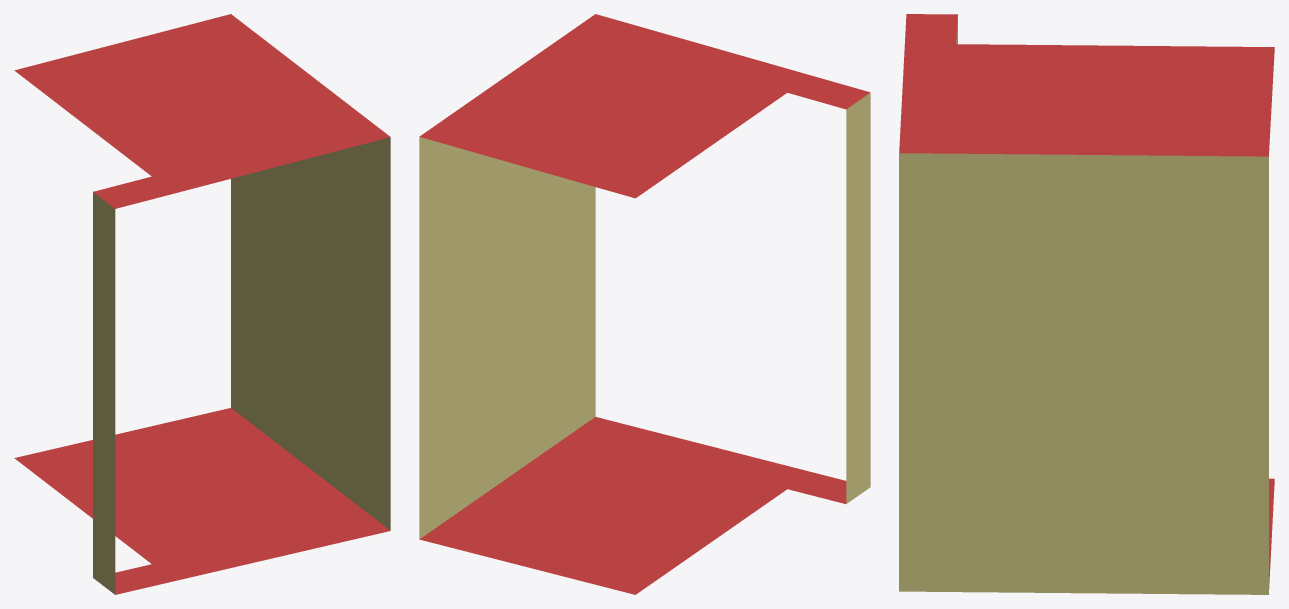
3 renders of one model, left to right at view 1: azimuth 30°, elevation 25°; view 2: azimuth 150°, elevation 25°; view 3: azimuth 270°, elevation 25°, orthographic. The views are drawn at different scales.
Bounding box in the file's own units: 5.35 × 5.61 × 7.23.
